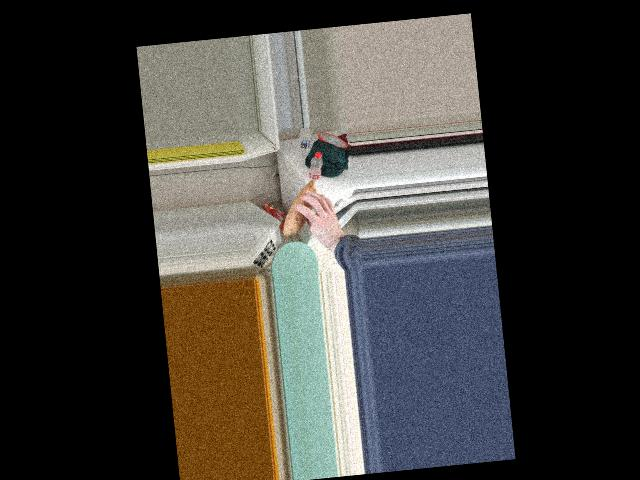sweet_potato: (279, 180, 326, 229)
